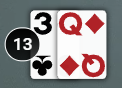3: (30, 10, 56, 37)
q: (57, 10, 85, 39)
